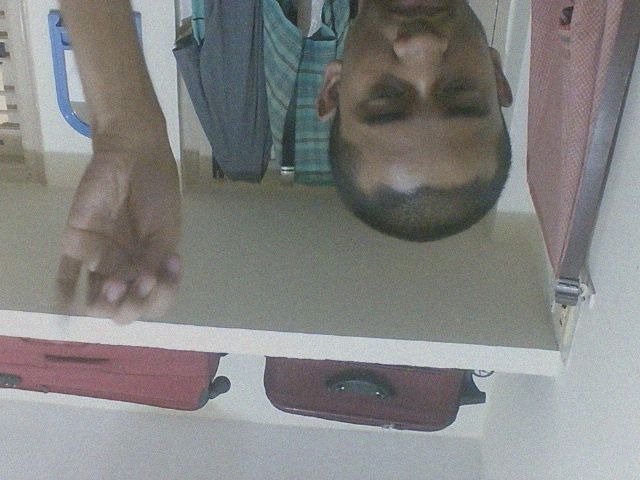hand: (44, 126, 192, 333)
